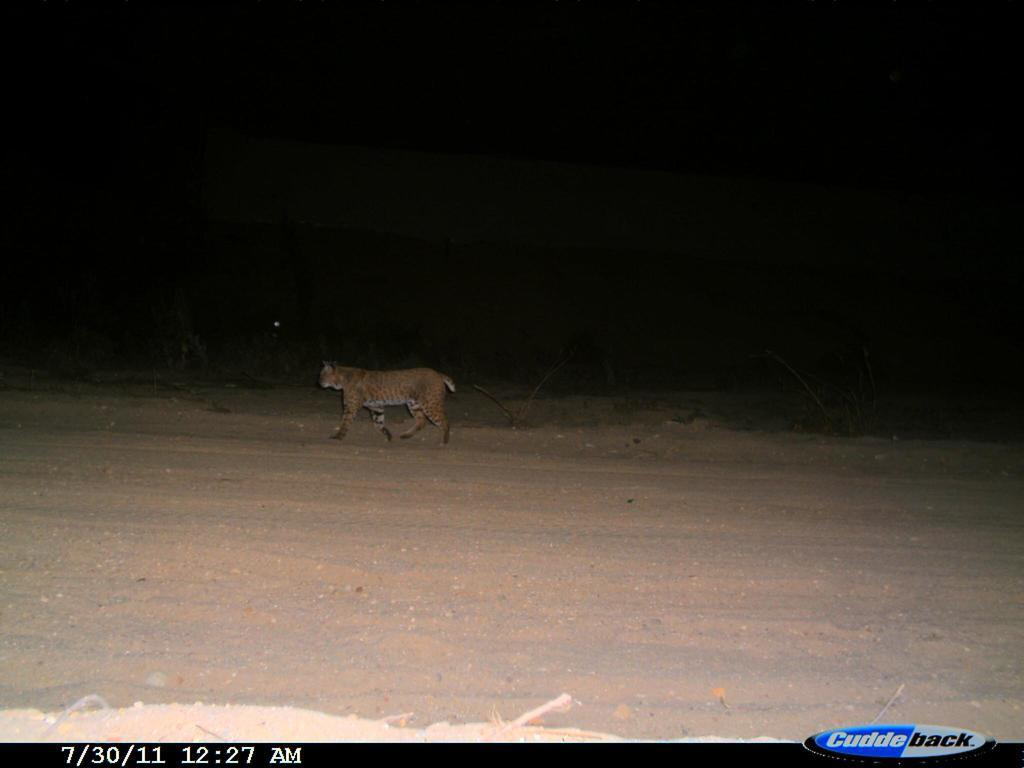bobcat: (300, 355, 466, 456)
